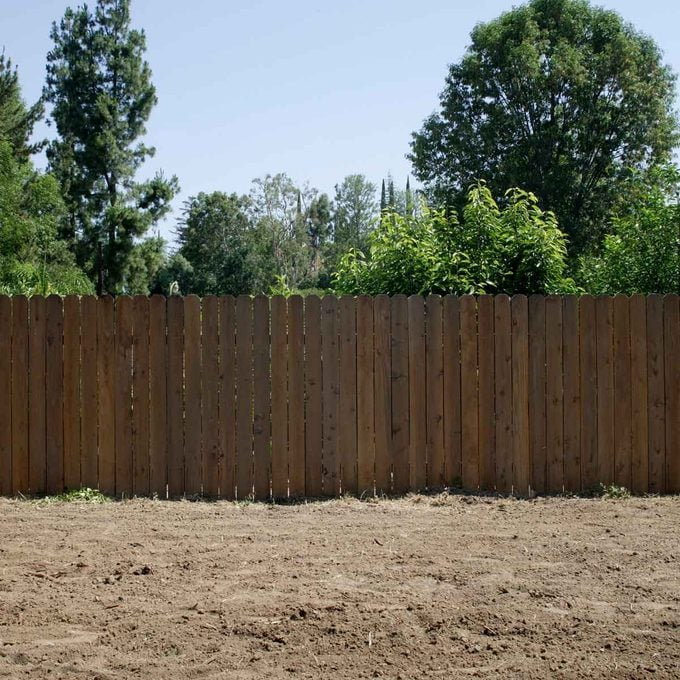dirt: (4, 502, 676, 669)
